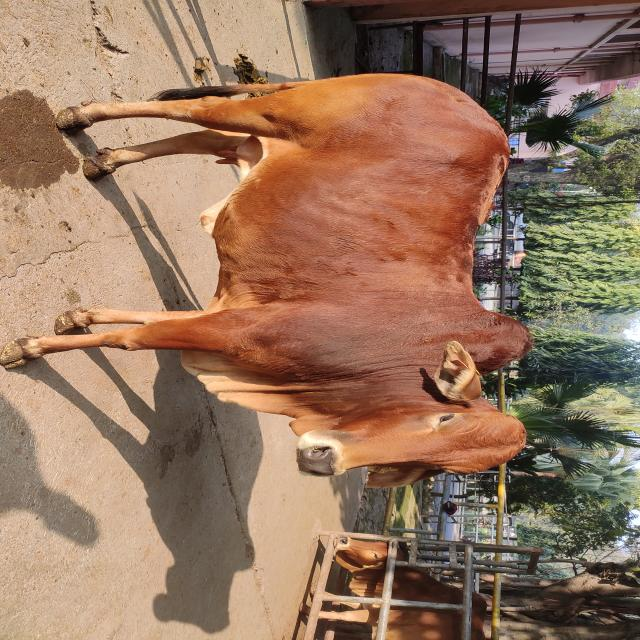cow: (3, 71, 535, 489)
hump: (469, 297, 539, 377)
